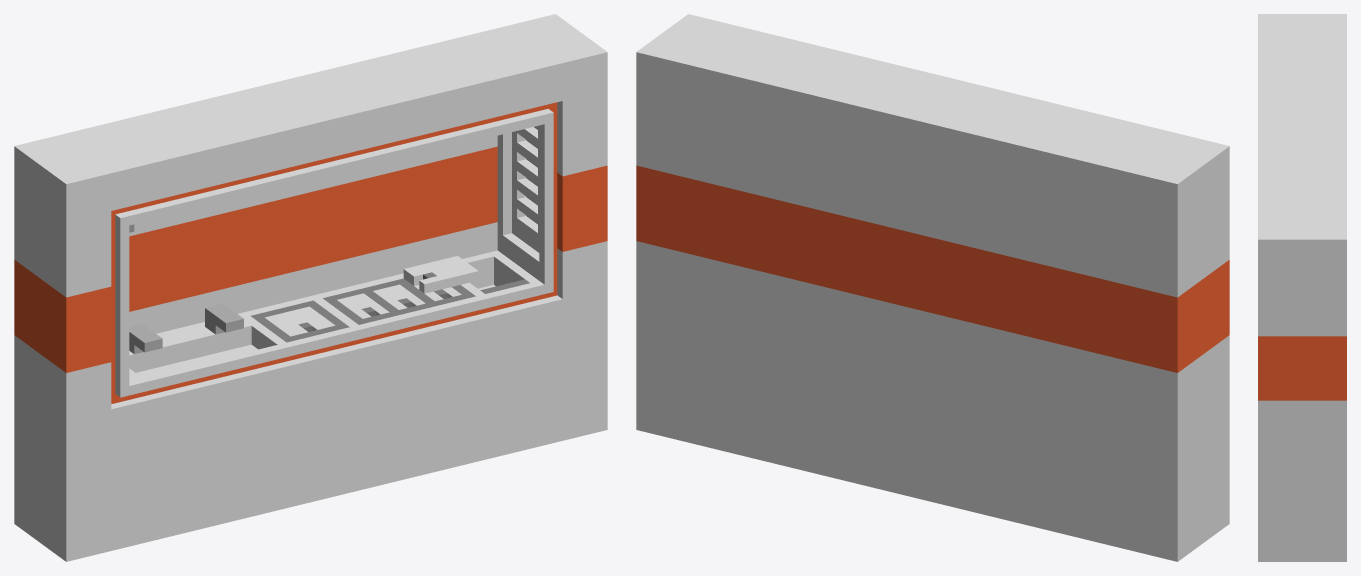
File: Commisary Wall.obj
3 views of the same model, side by side, from view 1: azimuth 30°, elevation 25°; view 2: azimuth 150°, elevation 25°; view 3: azimuth 270°, elevation 25° (orthographic). The views are drawn at different scales.
Size of the model in its own units: 60 by 40 by 10.
1 material, 1 textured.
